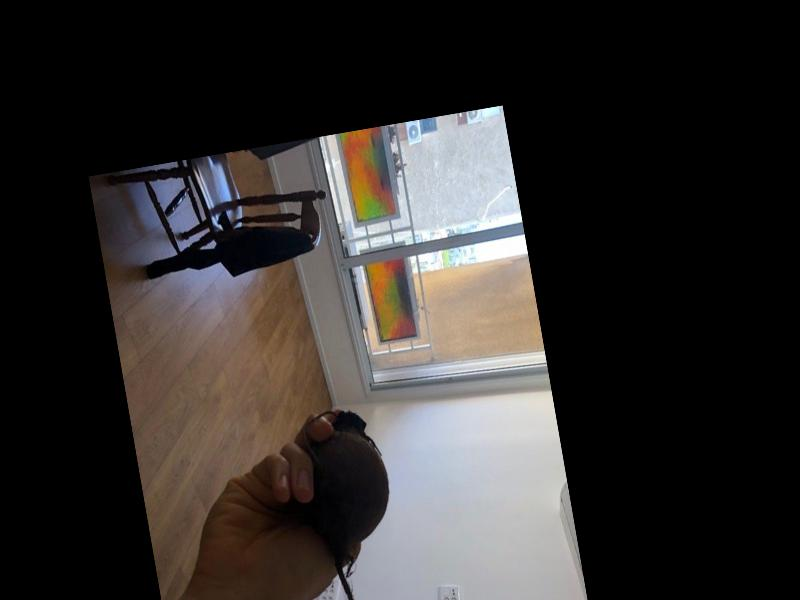Beet: (296, 401, 414, 600)
